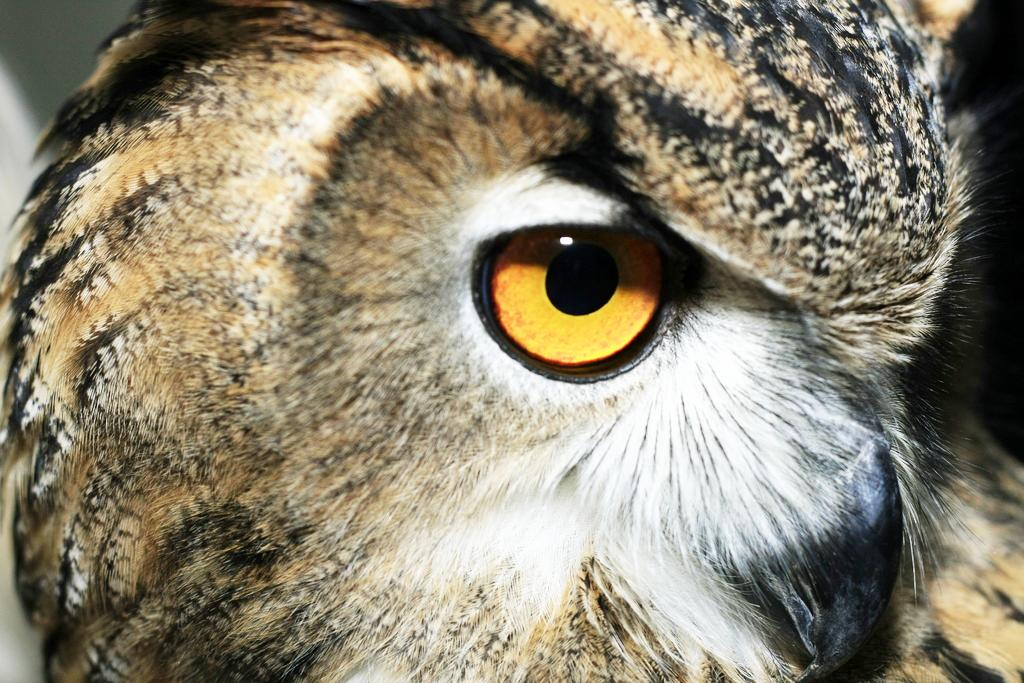Owl: (82, 44, 987, 643)
